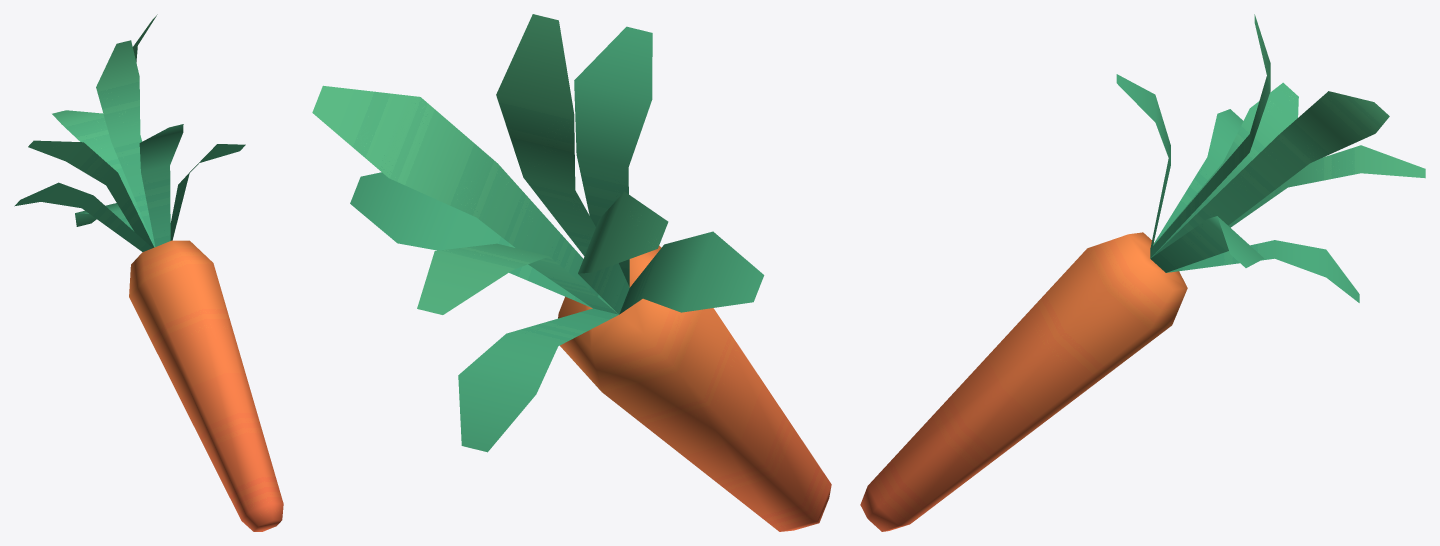
File: miniCarrot.glb
The picture shows the model from 3 angles, left to right: view 1: azimuth 30°, elevation 25°; view 2: azimuth 150°, elevation 25°; view 3: azimuth 270°, elevation 25°; orthographic projection. The views are drawn at different scales.
Visible parts, largest first — view 1: carrot; view 2: carrot; view 3: carrot.
Boxes of the visible parts, box(x1,y1,x2,y2) form: carrot: box(14, 14, 283, 531); carrot: box(312, 14, 831, 531); carrot: box(860, 14, 1425, 531).
Size of the model in its own units: 0.3431 by 0.5644 by 0.5644.
1 material, 1 textured.
